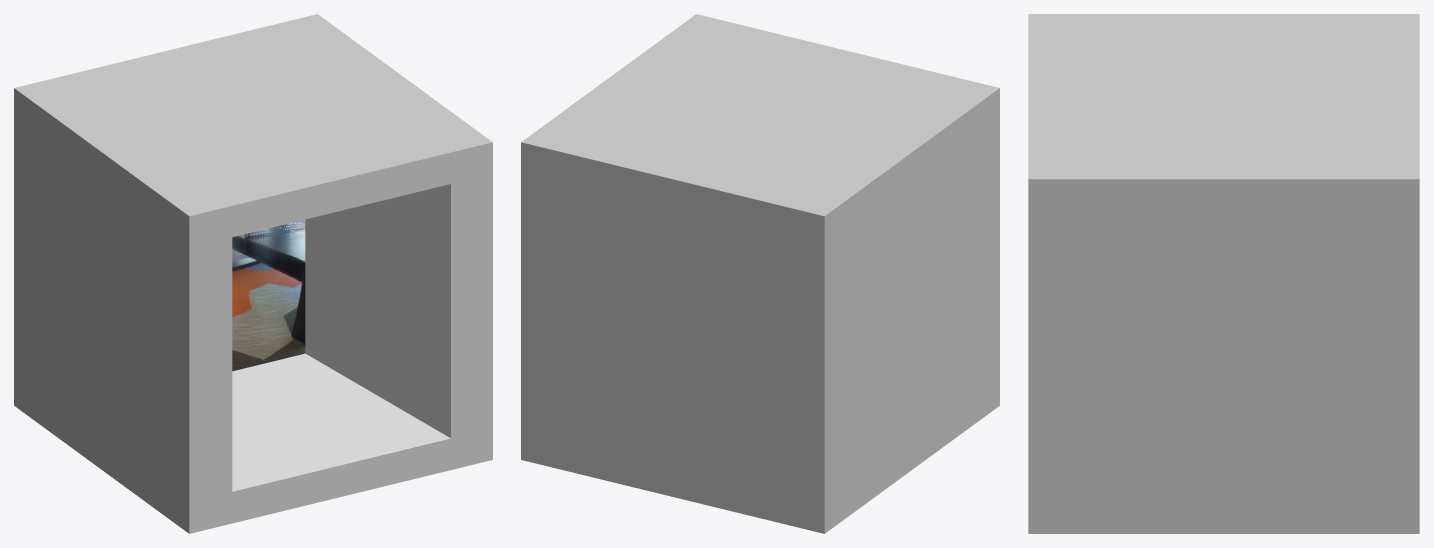
The model's file is 360_sphere_middle.fbx.
3 renders of one model, left to right at view 1: azimuth 30°, elevation 25°; view 2: azimuth 150°, elevation 25°; view 3: azimuth 270°, elevation 25°, orthographic. The views are drawn at different scales.
Parts seen in each view (by area): view 1: Cube, Plane; view 2: Cube; view 3: Cube.
Part boxes in pixels (box(x1,y1,x2,y2)): Cube: box(14, 14, 492, 533); Plane: box(232, 219, 305, 371); Cube: box(521, 14, 999, 533); Cube: box(1028, 14, 1419, 533).
Bounding box in the file's own units: 620 × 620 × 620.
Materials: 1 (1 with a texture image).
